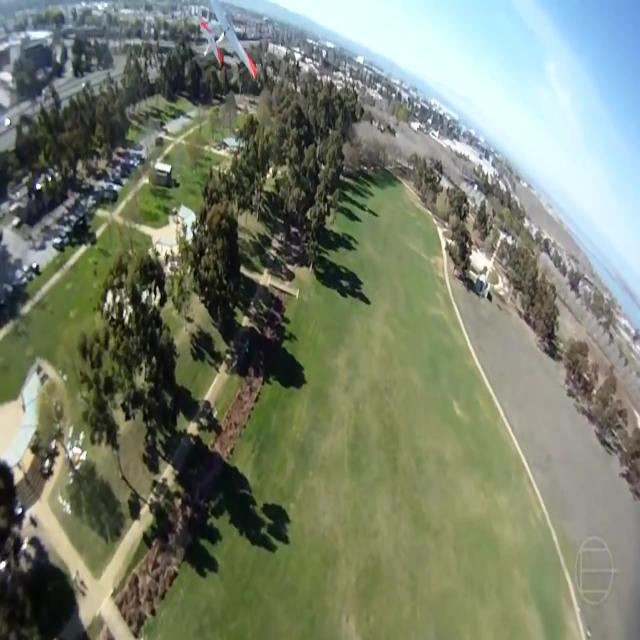iha: (198, 32, 258, 49)
